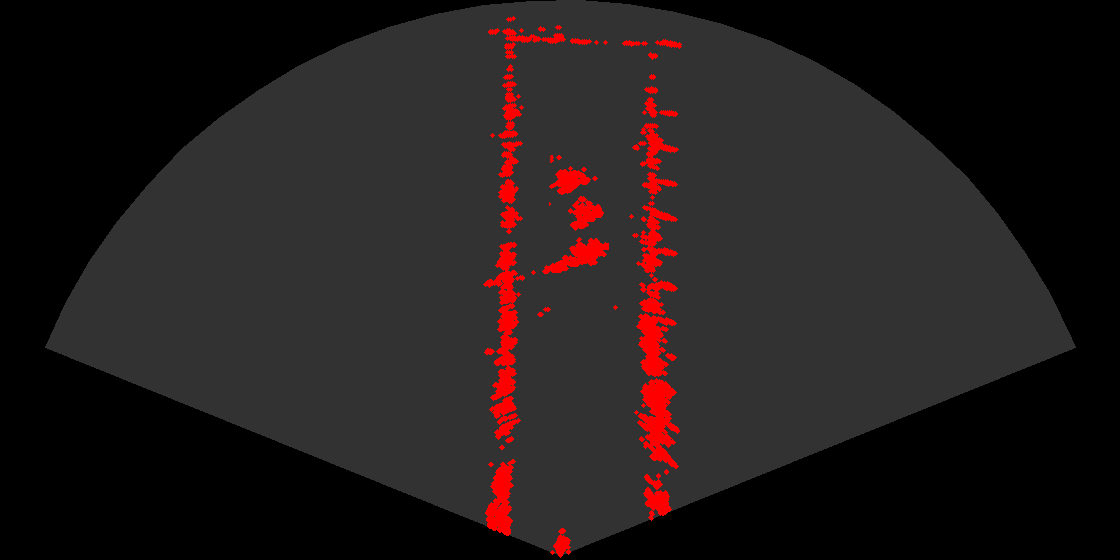cage: (549, 155, 612, 239)
frogman: (541, 231, 609, 278)
